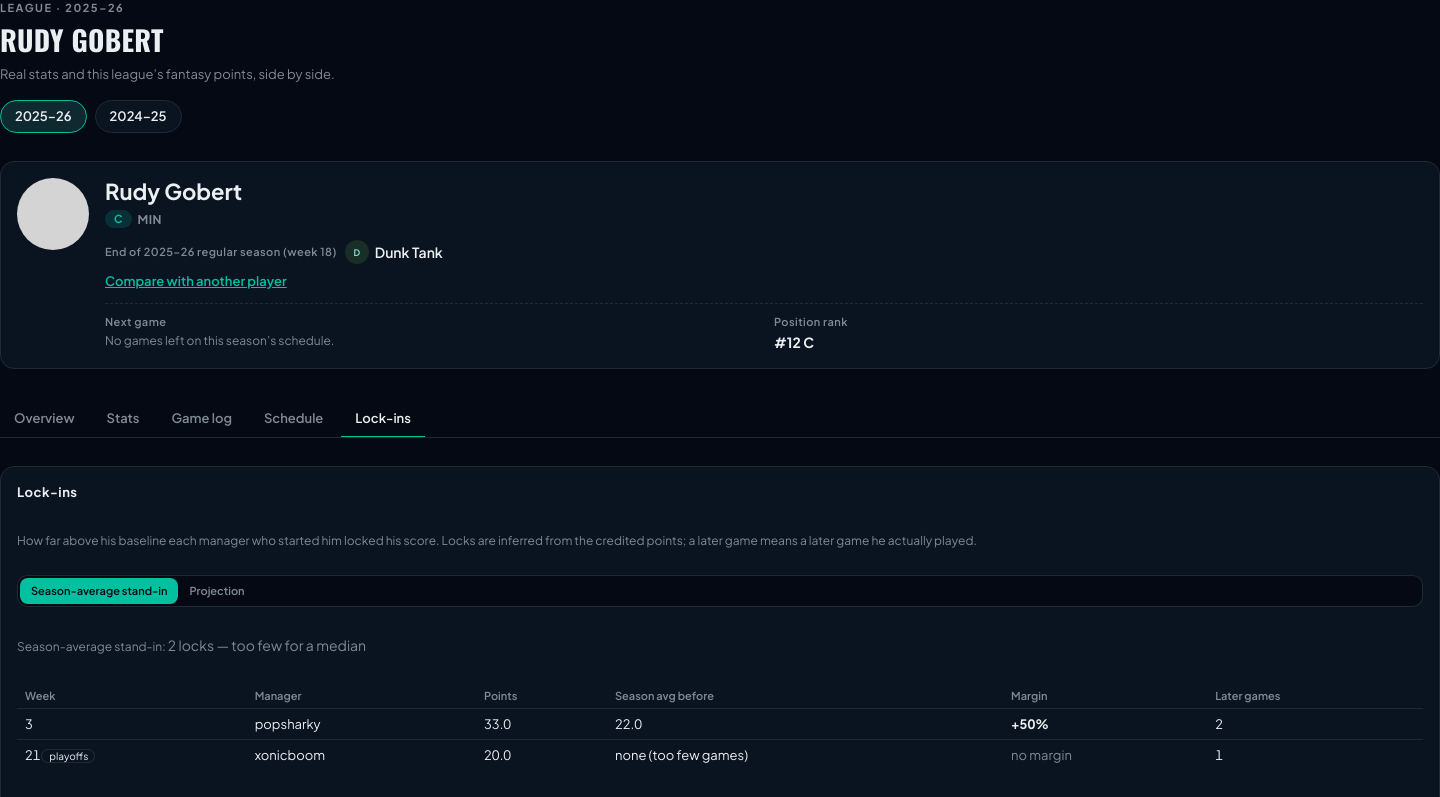
PlayerPage lock-ins tab (spec 044) › says "too few" below the minimum and switches to the projection baseline on request
The image size is (1440, 797).
Click the tab "Projection": (217, 591) [178,578,256,604]
(page scrolled)
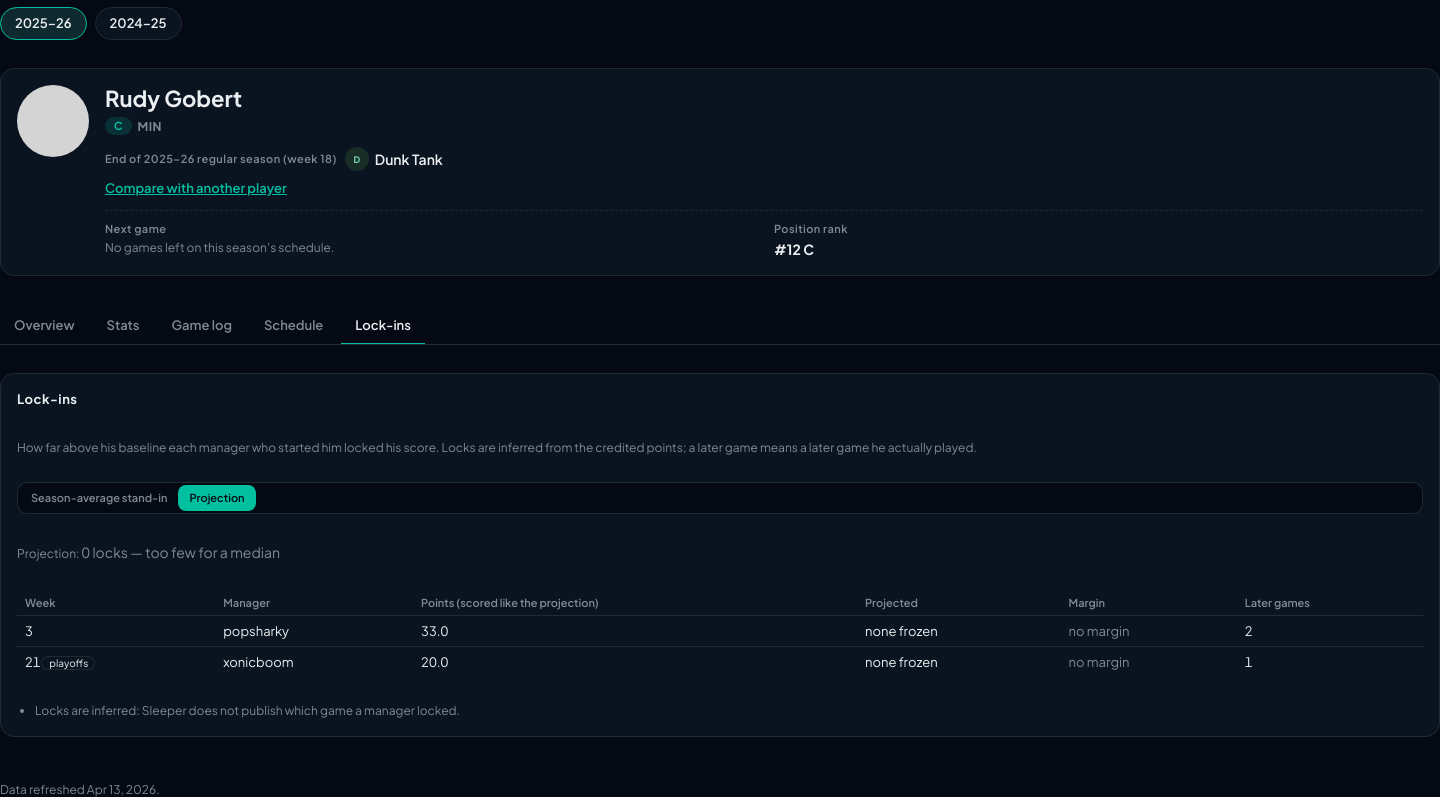
Now the element "Lock-ins" shows "0 locks — too few for a median", box [0,373,1439,737]
Now the element "Lock-ins" shows "none frozen", box [865,623,938,639]
